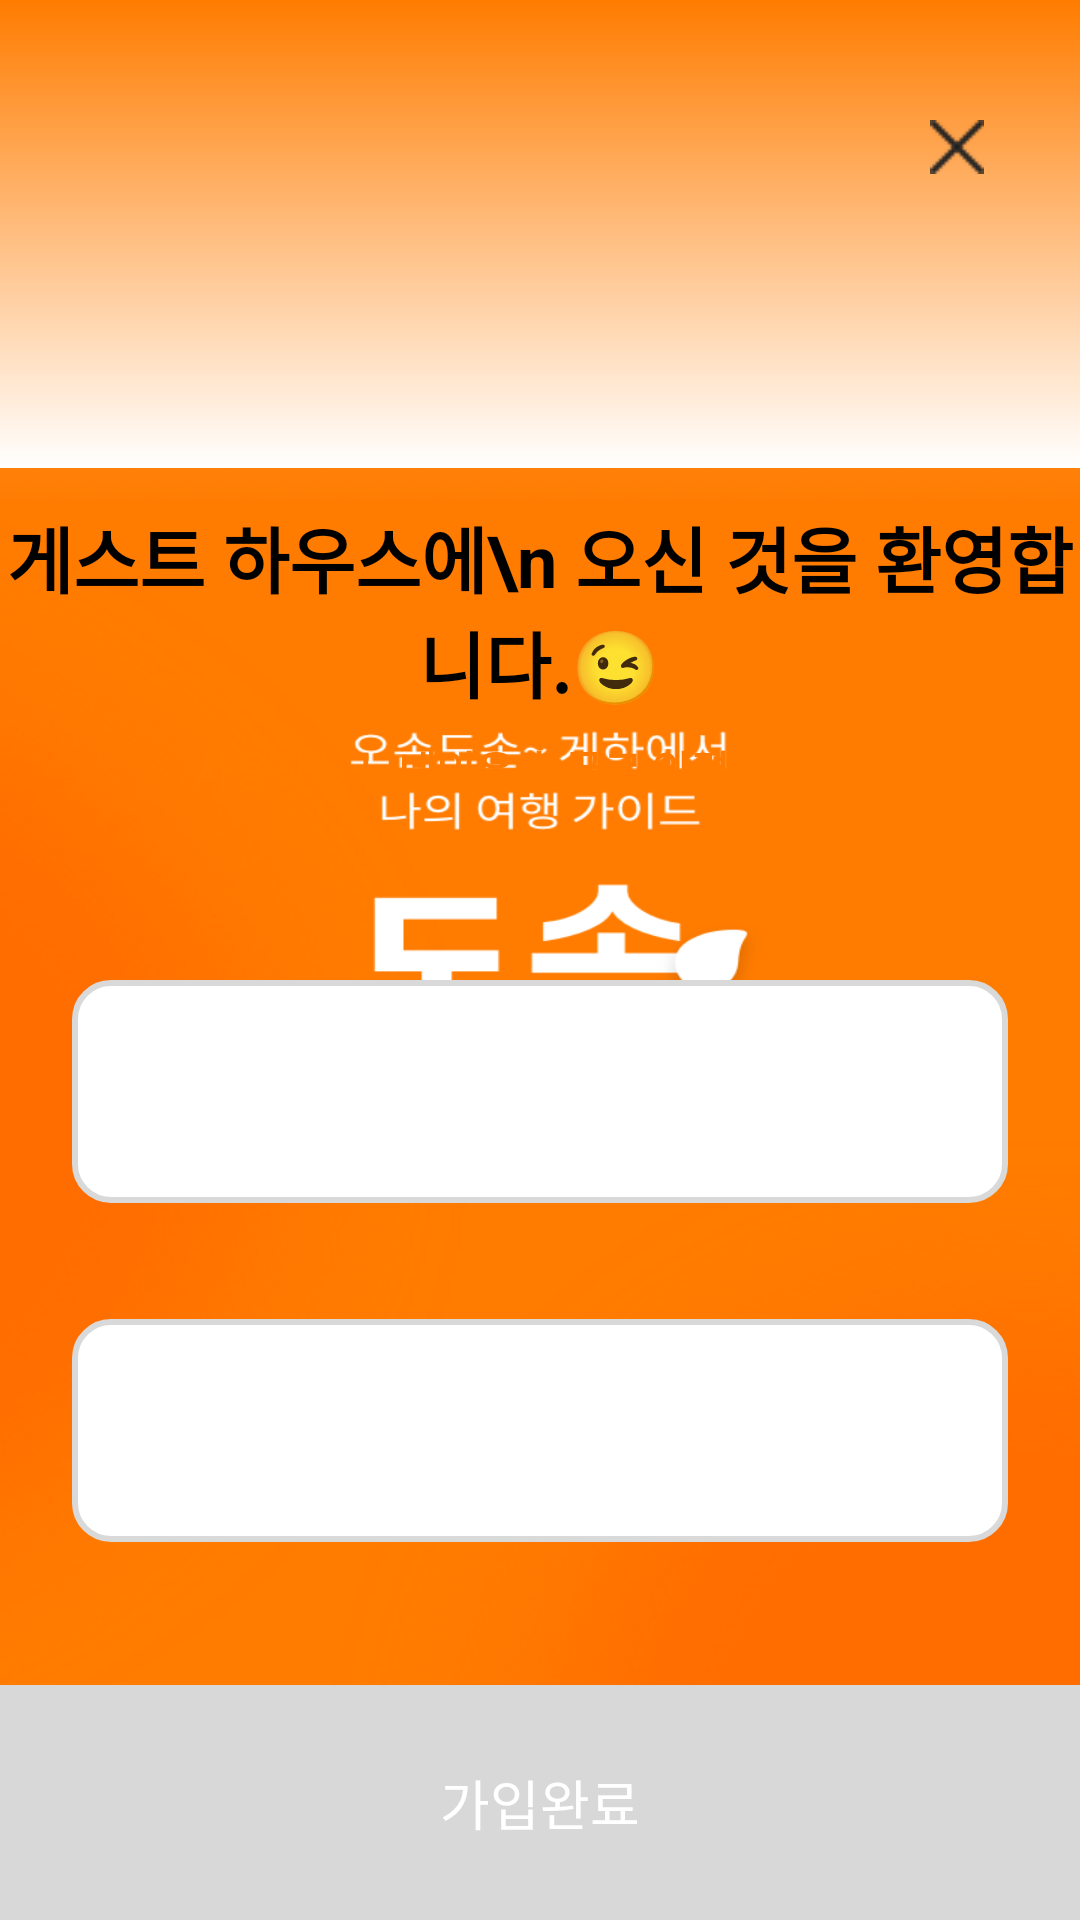

Named icons in this screenshot (1080 × 1920) and their centers, (x=x, y=y):
close: (x=957, y=147)
